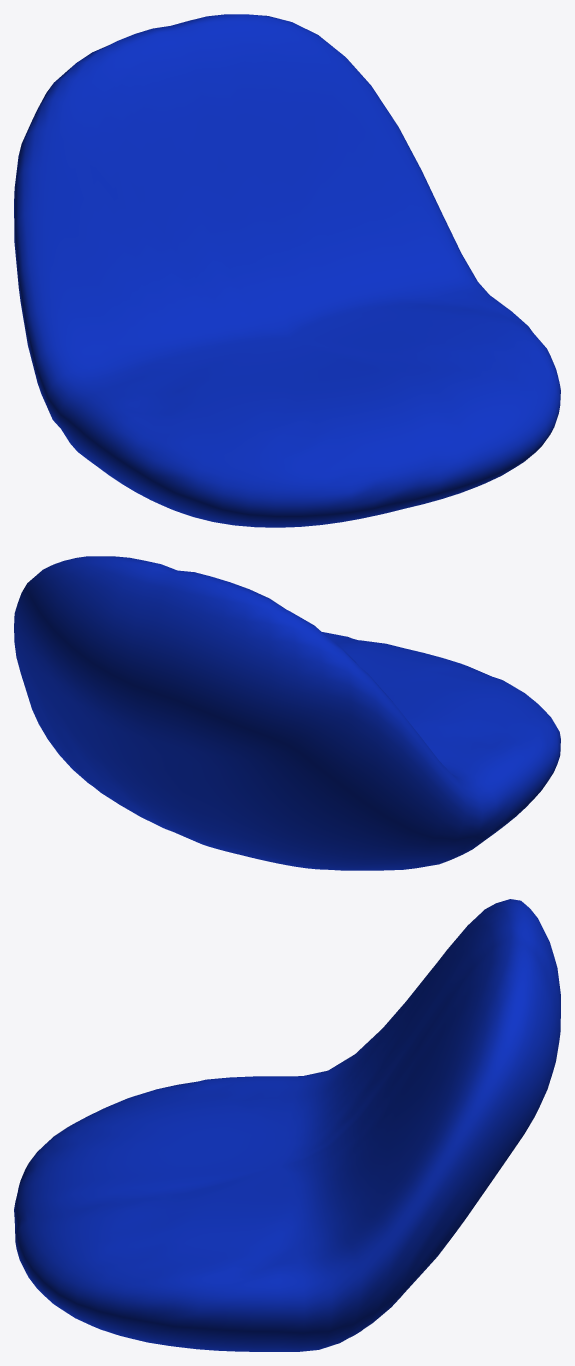
Rendered from beanBag-2.glb.
3 views of the same model, one above another, from view 1: azimuth 30°, elevation 25°; view 2: azimuth 150°, elevation 25°; view 3: azimuth 270°, elevation 25° (orthographic). The views are drawn at different scales.
Parts seen in each view (by area): view 1: beanBag_2_continuous_cloth; view 2: beanBag_2_continuous_cloth; view 3: beanBag_2_continuous_cloth.
Boxes of the visible parts, x1,y1,x2,y2 form: beanBag_2_continuous_cloth: (14, 14, 560, 527); beanBag_2_continuous_cloth: (14, 556, 560, 870); beanBag_2_continuous_cloth: (14, 899, 560, 1351).
Bounding box in the file's own units: 1.04 × 0.78 × 1.1.
